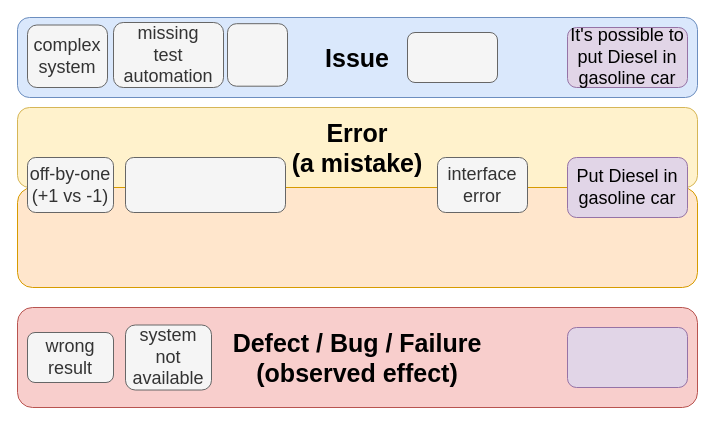
This 715x425 diagram has some shape labels left out. Each missing label, with the centre of its shape:
Fault (cause of failure): [357,237]
motor doesn't run: [627,357]
stress: [257,54]
time pressure: [452,57]
unit error (imperial vs metric): [205,184]
